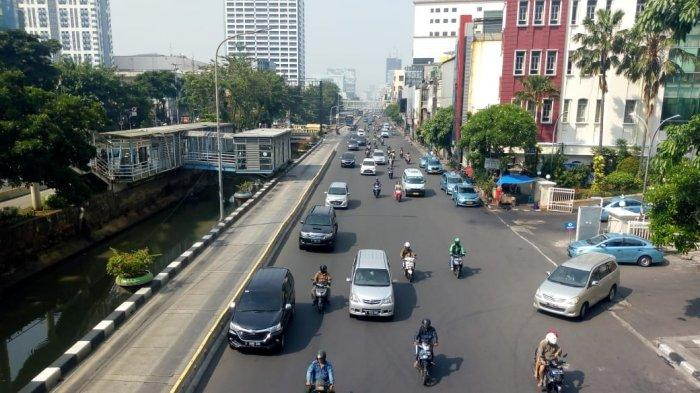car: (227, 266, 296, 355), (540, 253, 621, 322), (349, 248, 396, 322), (569, 233, 664, 268), (533, 329, 569, 393), (300, 206, 340, 251), (453, 182, 480, 208), (325, 182, 350, 209), (403, 168, 425, 198), (441, 172, 462, 195), (360, 158, 377, 176), (426, 156, 442, 175), (341, 152, 355, 167), (372, 149, 385, 164), (347, 140, 359, 151), (380, 127, 389, 139)
motorbike: (588, 195, 654, 222), (415, 319, 437, 387), (305, 352, 337, 393), (311, 264, 331, 314), (400, 242, 417, 282), (449, 238, 464, 278), (373, 178, 382, 199), (394, 181, 402, 201), (388, 165, 395, 179), (405, 153, 411, 164), (389, 155, 394, 166), (365, 146, 370, 156), (400, 147, 404, 156)
